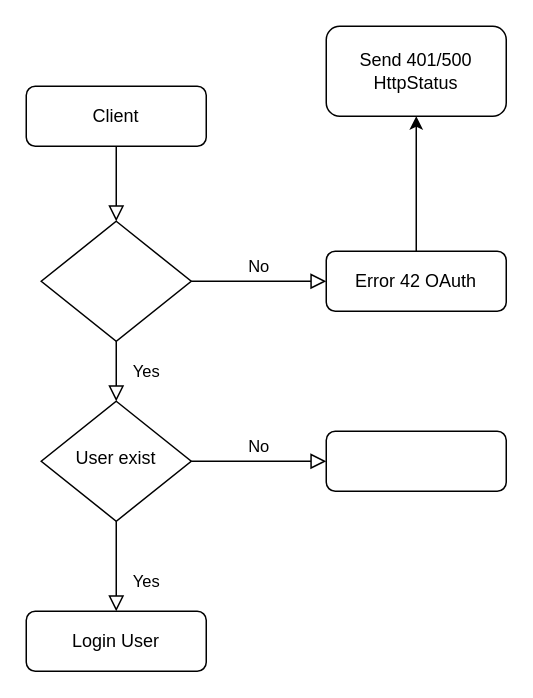
Image size: 533x698. Some labels were removed from this diagram. Here are the shapes that lost their labels. From the top down, the centre of each, then its label:
the point at 115,280: 42 OAuth
the point at 415,460: Create User
